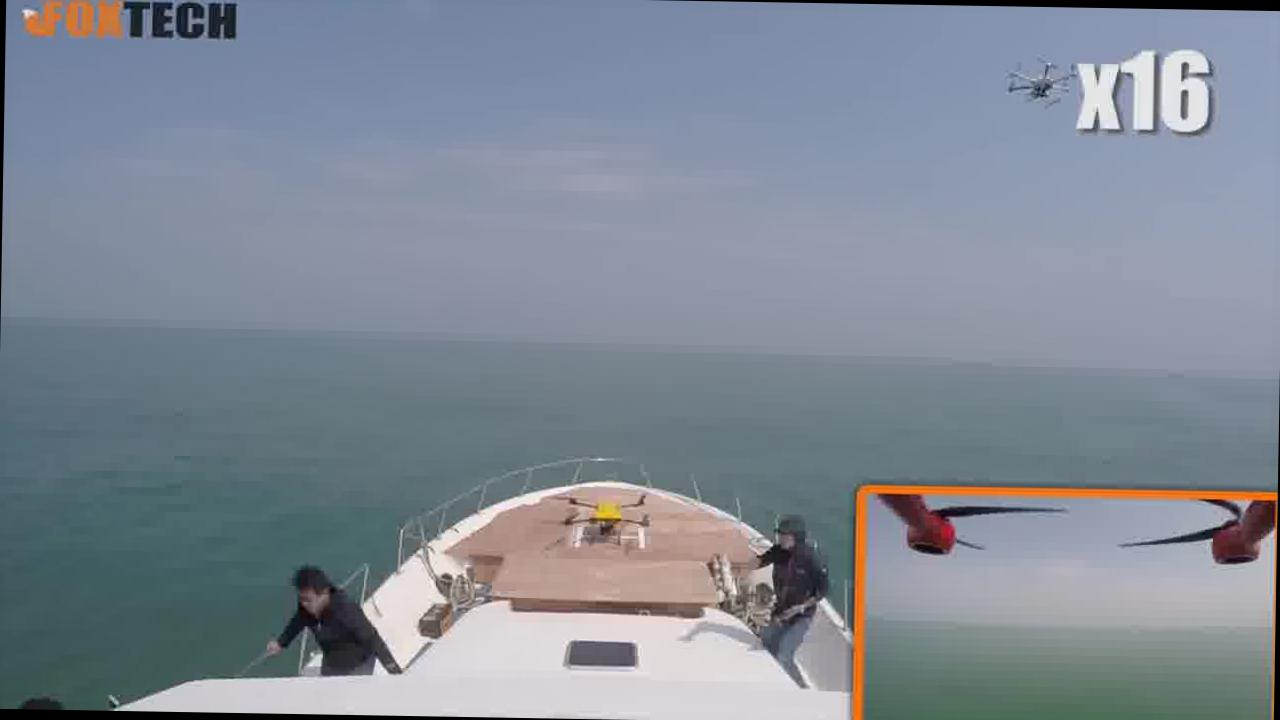drone: (547, 485, 658, 540), (1002, 49, 1080, 106)
